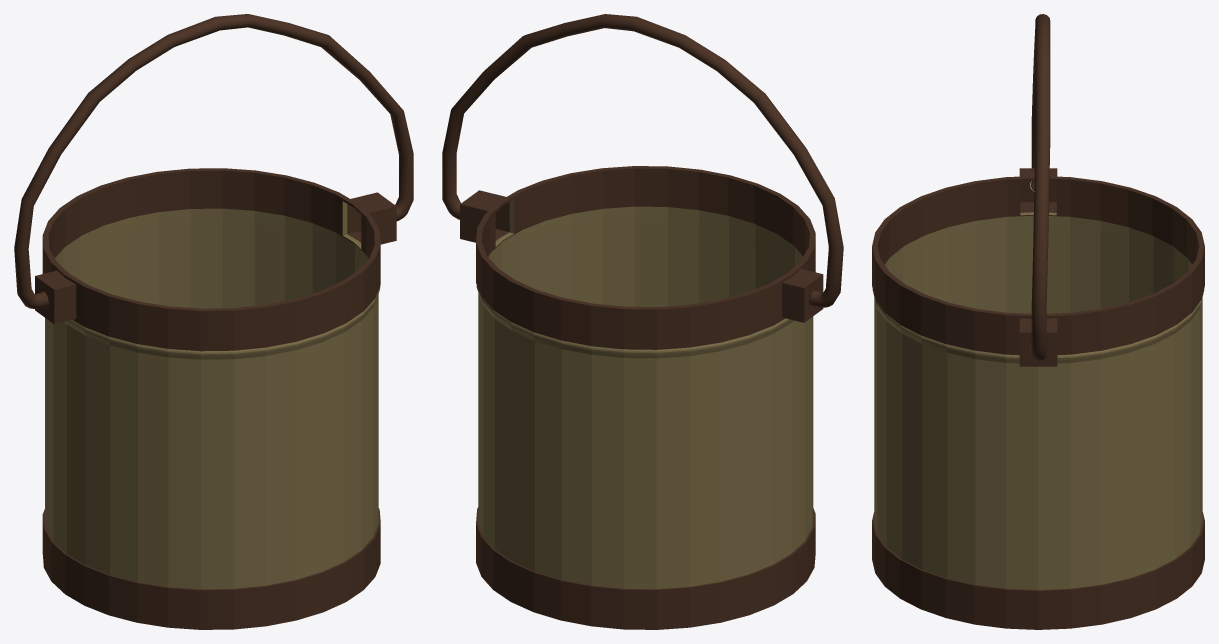
File: Cup.fbx
3 views of the same model, side by side, from view 1: azimuth 30°, elevation 25°; view 2: azimuth 150°, elevation 25°; view 3: azimuth 270°, elevation 25° (orthographic). The views are drawn at different scales.
Visible parts, largest first — view 1: Cup, Handle; view 2: Cup, Handle; view 3: Cup, Handle.
Part boxes in pixels (<box>): Cup: <box>35,168,396,629</box>; Handle: <box>14,14,413,309</box>; Cup: <box>460,166,823,629</box>; Handle: <box>442,14,843,307</box>; Cup: <box>872,168,1204,629</box>; Handle: <box>1030,14,1050,361</box>.
Size of what is drawn, in the model's own units: 30.07 by 38.88 by 22.19.
